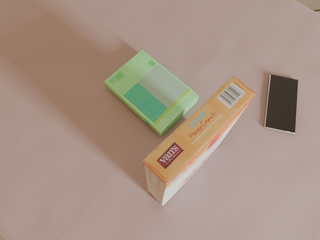book: (104, 50, 199, 136)
box: (144, 77, 256, 205)
phone: (264, 75, 298, 134)
